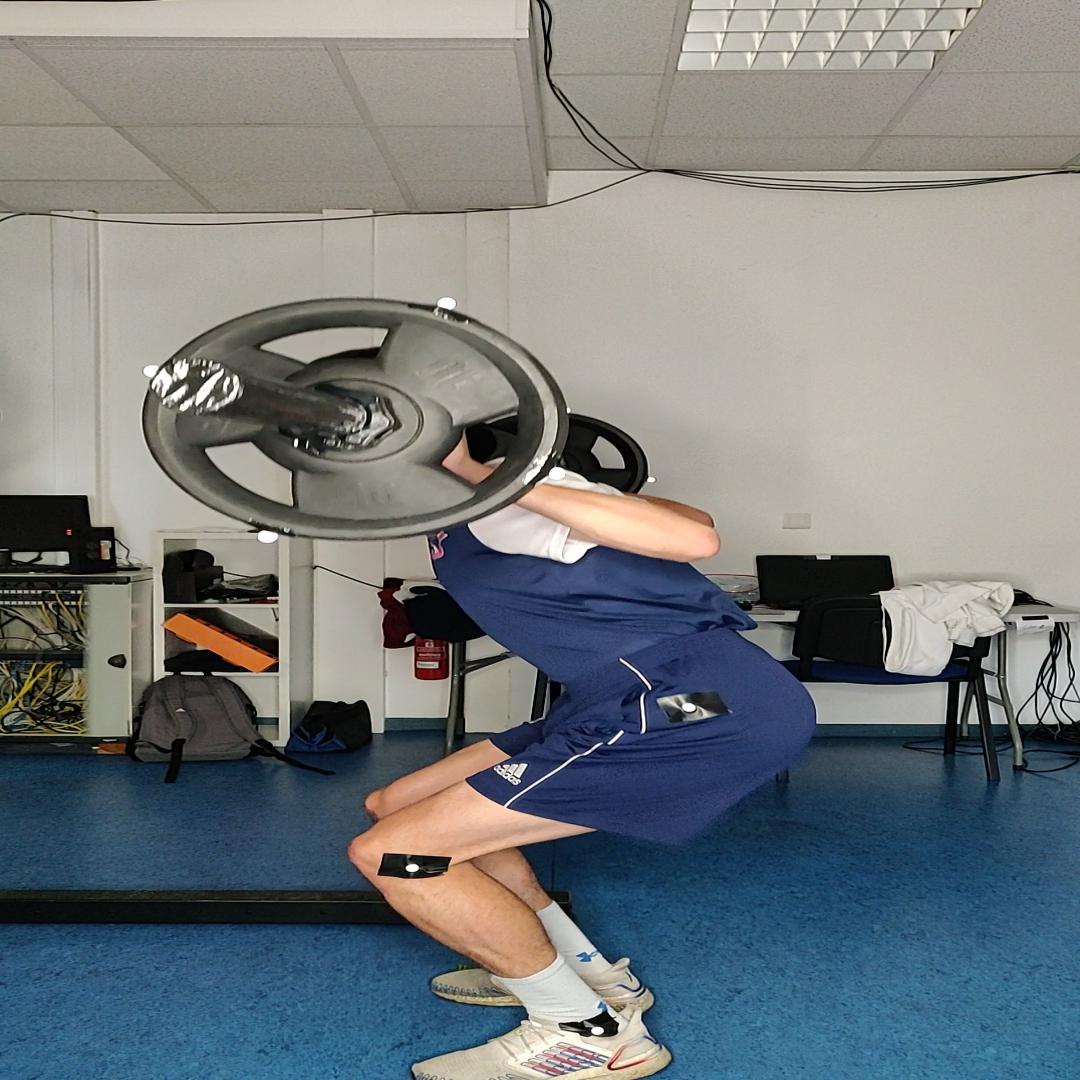Bar: (153, 358, 244, 415)
Barbell: (142, 296, 571, 542)
